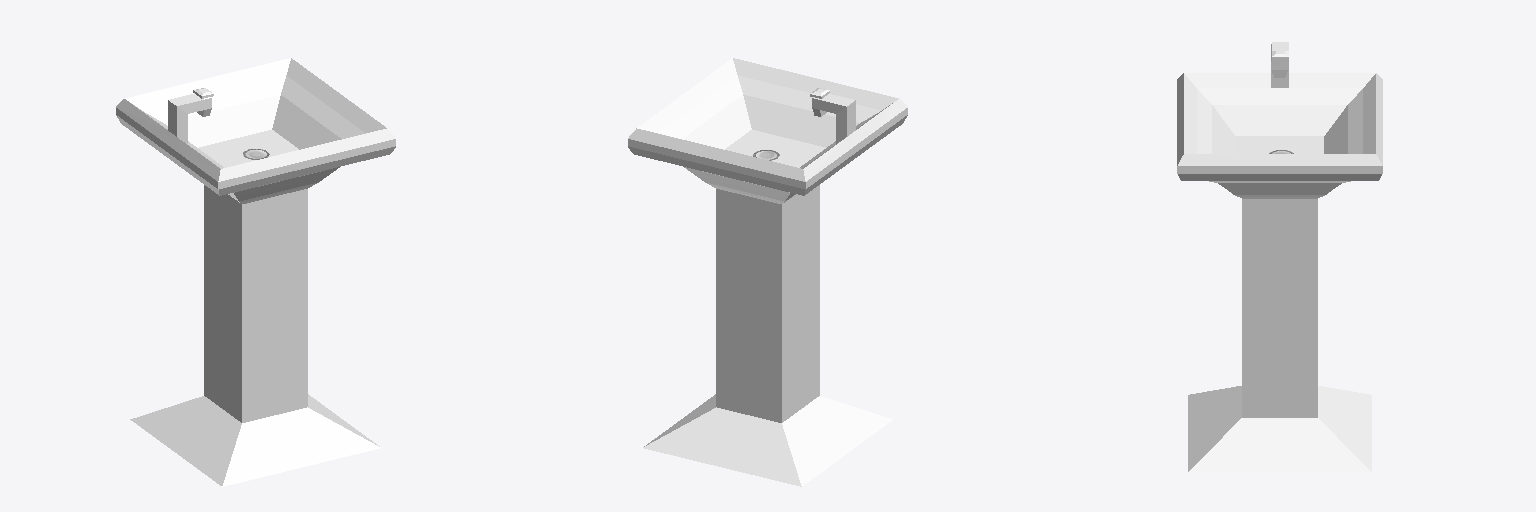
3 views of the same model, side by side, from view 1: azimuth 30°, elevation 25°; view 2: azimuth 150°, elevation 25°; view 3: azimuth 270°, elevation 25° (orthographic).
Visible parts, largest first — view 1: Cube.007; view 2: Cube.007; view 3: Cube.007.
Part boxes in pixels (left/top/right/bottom): Cube.007: left=116, top=58, right=395, bottom=486; Cube.007: left=628, top=58, right=907, bottom=486; Cube.007: left=1177, top=42, right=1382, bottom=472.
Bounding box in the file's own units: 0.9474 × 1.81 × 0.9474.
Materials: 1 (1 with a texture image).